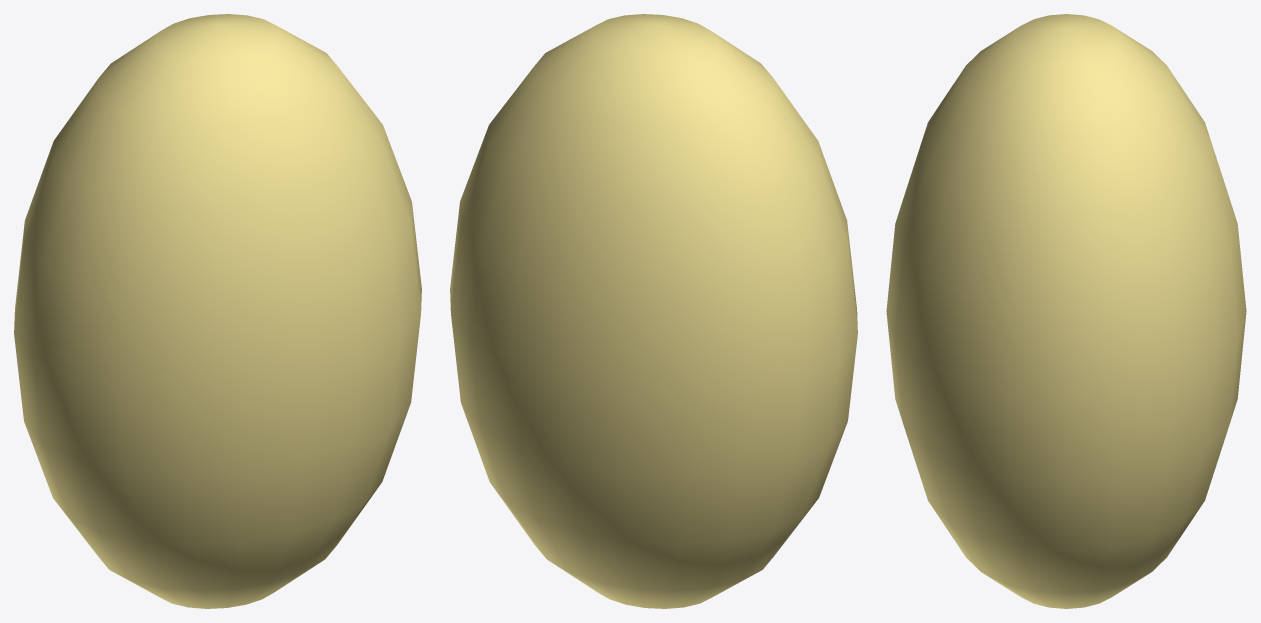
File: baseline.glb
3 renders of one model, left to right at view 1: azimuth 30°, elevation 25°; view 2: azimuth 150°, elevation 25°; view 3: azimuth 270°, elevation 25°, orthographic.
Parts seen in each view (by area): view 1: body; view 2: body; view 3: body.
Boxes of the visible parts, x1,y1,x2,y2 form: body: (14,14,421,608); body: (450,14,857,608); body: (886,14,1246,608).
Bounding box in the file's own units: 0.135 × 0.2 × 0.115.
